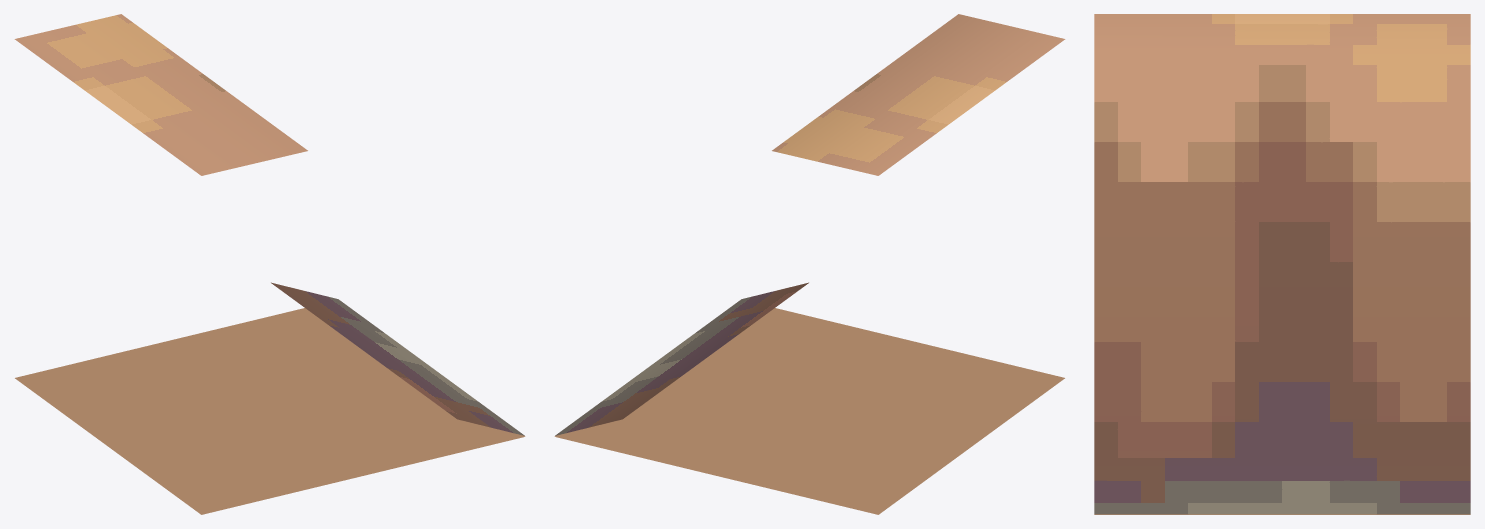
3 views of the same model, side by side, from view 1: azimuth 30°, elevation 25°; view 2: azimuth 150°, elevation 25°; view 3: azimuth 270°, elevation 25° (orthographic).
Size of the model in its own units: 1 by 1 by 1.
Materials: 1 (1 with a texture image).
